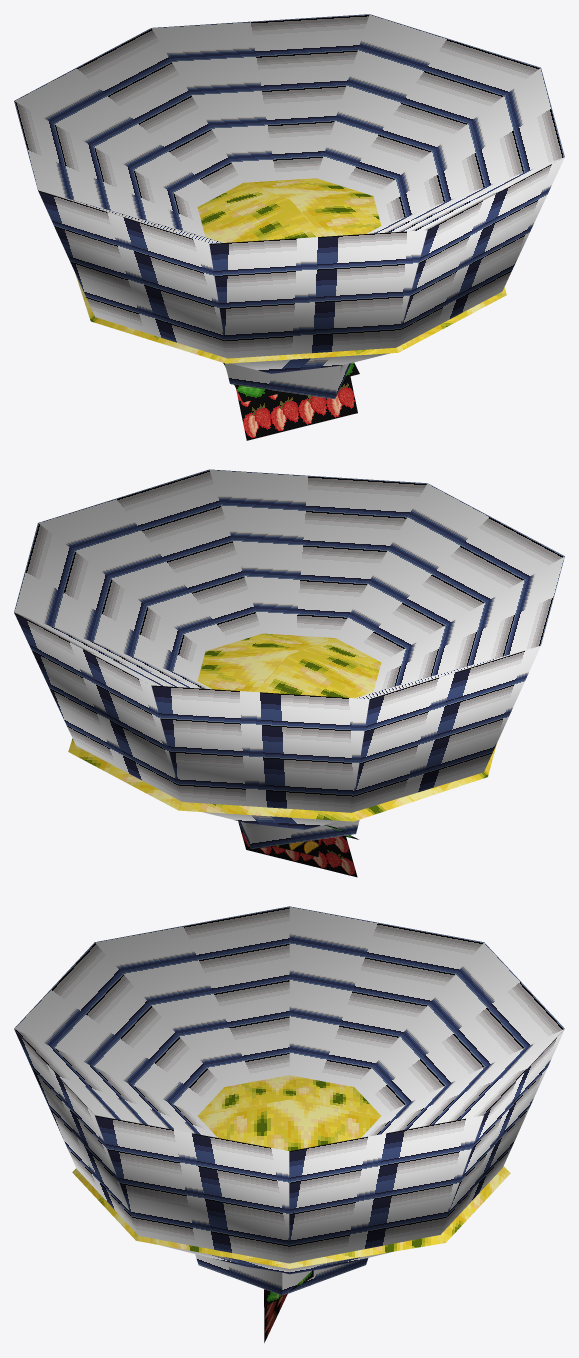
File: 5514u_don_oyk0.gltf
The picture shows the model from 3 angles, top to bottom: view 1: azimuth 30°, elevation 25°; view 2: azimuth 150°, elevation 25°; view 3: azimuth 270°, elevation 25°; orthographic projection.
Parts seen in each view (by area): view 1: 5514u_don_oyk0; view 2: 5514u_don_oyk0; view 3: 5514u_don_oyk0.
Boxes of the visible parts, x1,y1,x2,y2 form: 5514u_don_oyk0: (14,14,564,440); 5514u_don_oyk0: (14,469,564,877); 5514u_don_oyk0: (14,906,564,1342).
Size of the model in its own units: 0.7798 by 0.428 by 0.7417.
Materials: 5 (5 with a texture image).
